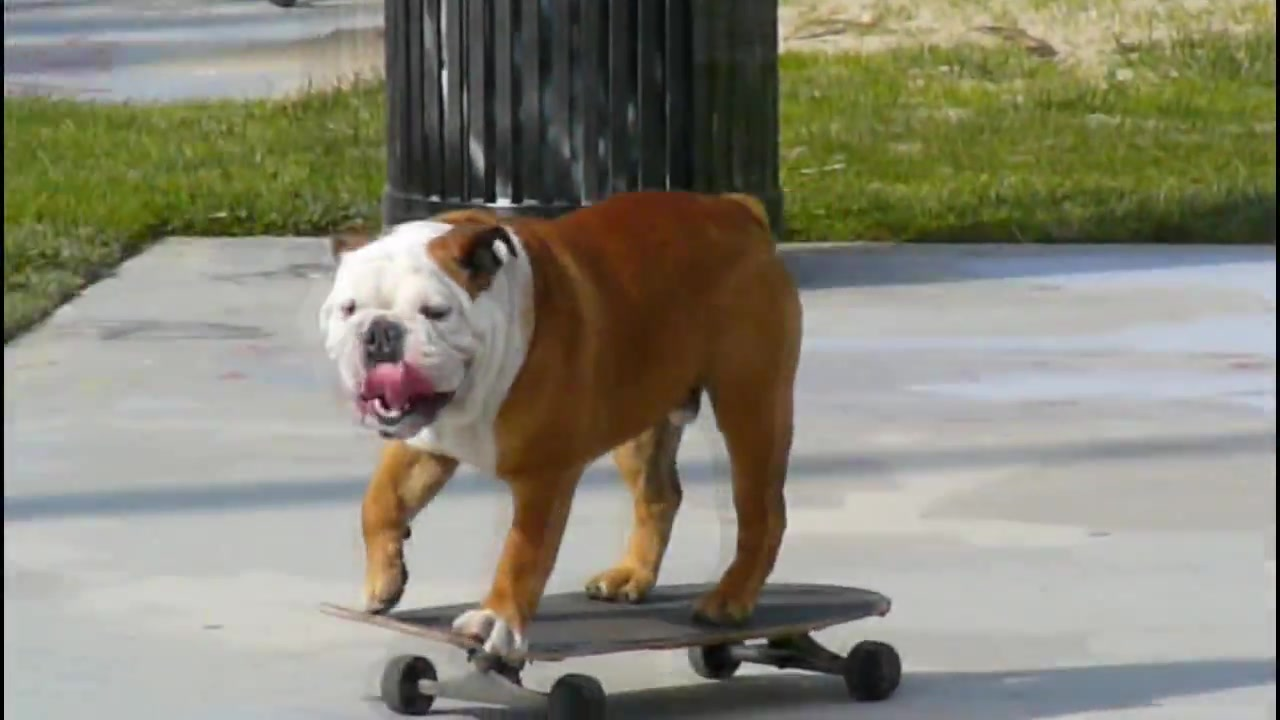dog: (315, 180, 819, 659)
